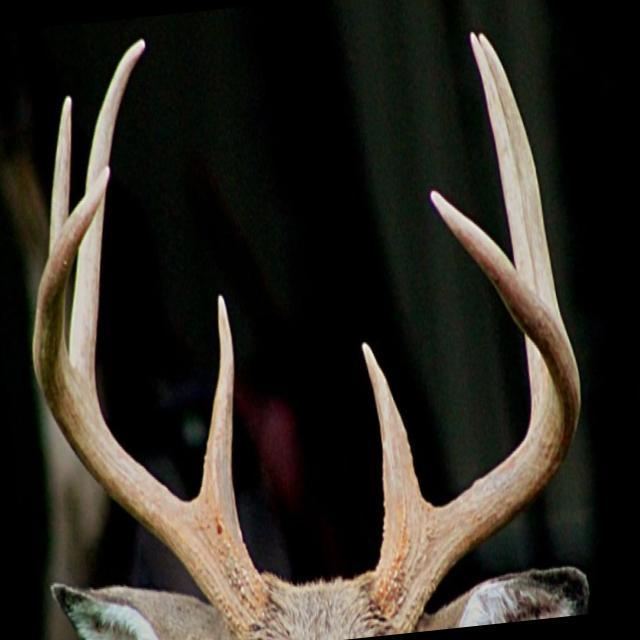L-F: (370, 188, 580, 632)
L-G1: (361, 341, 432, 534)
R-F: (31, 165, 270, 640)
R-G1: (199, 294, 236, 508)
